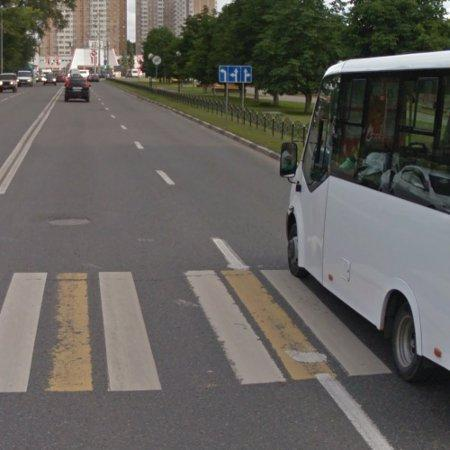crosswalks: (0, 268, 397, 391)
